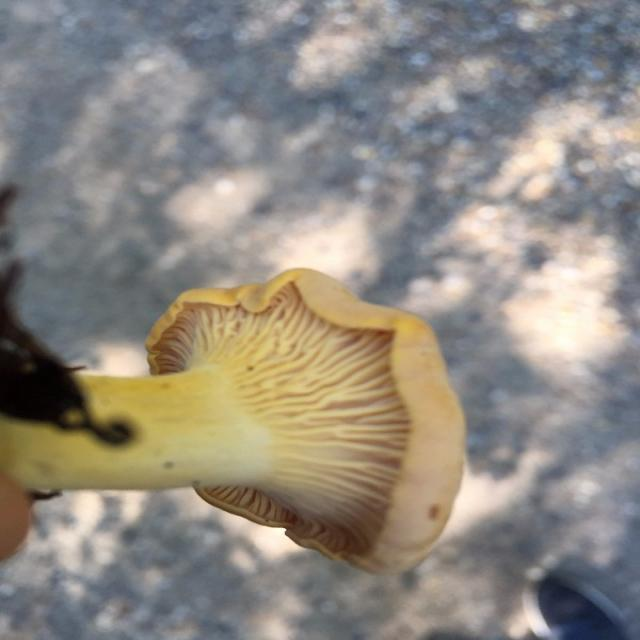Cantharellus cibarius: (0, 269, 463, 568)
